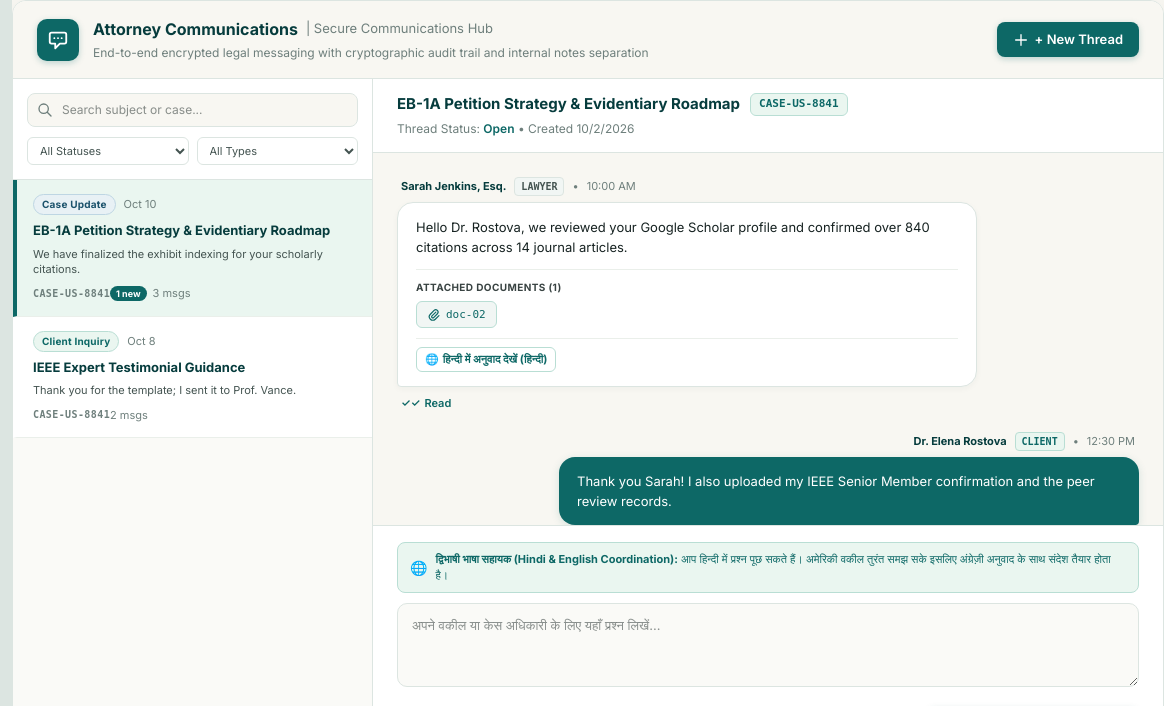
Test: Retained Client Localization — Gujarati (ગુજરાતી) & Hindi (हिन्दी) Support › 6. SecureMessagingHub Incoming Message Translation › provides on-demand translation toggle into Hindi for English legal advice
Step 1. Click the button "🌐 हिन्दी में अनुवाद देखें (हिन्दी)" → (486, 360), box [416,347,556,372]
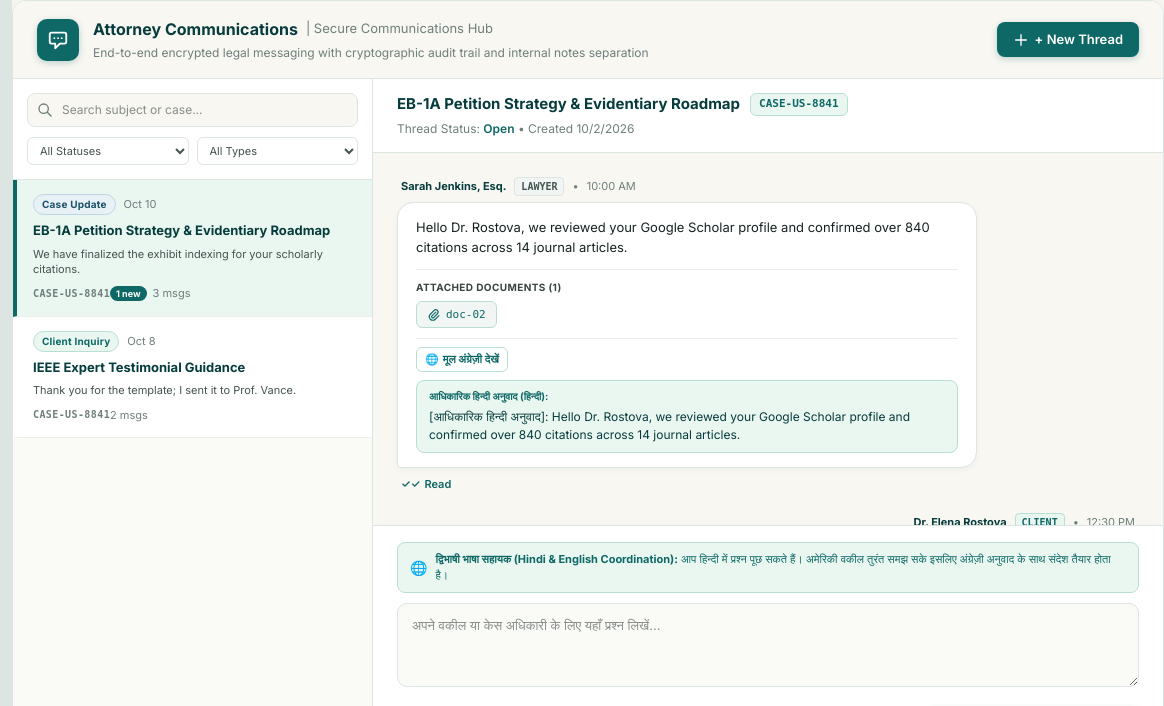
Expected: the text "आधिकारिक हिन्दी अनुवाद (हिन्दी):" is shown, [429,390,548,402]
